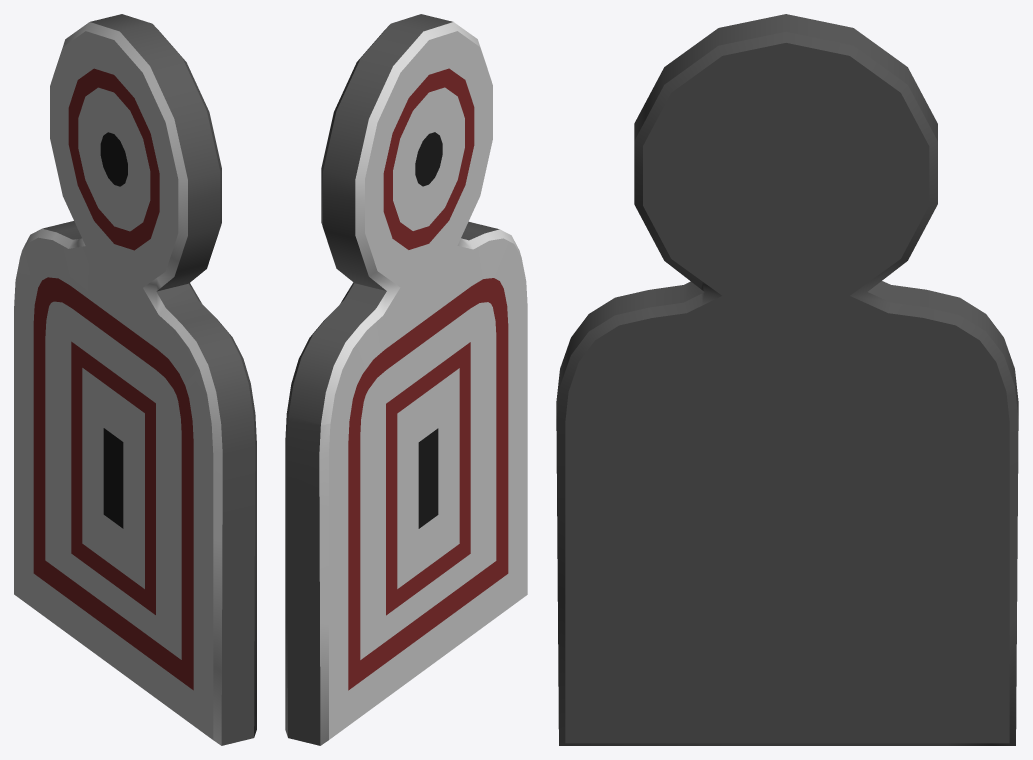
Rendered from Entity_TargetBody-bkn.FBX.
The picture shows the model from 3 angles, left to right: view 1: azimuth 30°, elevation 25°; view 2: azimuth 150°, elevation 25°; view 3: azimuth 270°, elevation 25°; orthographic projection. The views are drawn at different scales.
Parts seen in each view (by area): view 1: TargetBody_Part_5, TargetBody_Part_6, TargetBody_Part_4, TargetBody_Part_3, TargetBody_Part_1, TargetBody_Part_2, TargetBody_Part_10, TargetBody_Part_8, TargetBody_Part_7, TargetBody_Part_9; view 2: TargetBody_Part_6, TargetBody_Part_10, TargetBody_Part_1, TargetBody_Part_3, TargetBody_Part_8, TargetBody_Part_4, TargetBody_Part_5, TargetBody_Part_2, TargetBody_Part_9, TargetBody_Part_7; view 3: TargetBody_Part_6, TargetBody_Part_5, TargetBody_Part_4, TargetBody_Part_3, TargetBody_Part_2, TargetBody_Part_1, TargetBody_Part_10, TargetBody_Part_8, TargetBody_Part_7, TargetBody_Part_9.
Boxes of the visible parts, <box> form: TargetBody_Part_5: <box>156,192,256,539</box>; TargetBody_Part_6: <box>50,14,221,209</box>; TargetBody_Part_4: <box>136,501,256,745</box>; TargetBody_Part_3: <box>91,177,194,500</box>; TargetBody_Part_1: <box>14,279,149,491</box>; TargetBody_Part_2: <box>55,475,157,646</box>; TargetBody_Part_10: <box>16,107,98,319</box>; TargetBody_Part_8: <box>14,360,100,547</box>; TargetBody_Part_7: <box>46,548,137,684</box>; TargetBody_Part_9: <box>14,479,54,617</box>; TargetBody_Part_6: <box>321,14,492,200</box>; TargetBody_Part_10: <box>286,193,413,426</box>; TargetBody_Part_1: <box>285,352,464,505</box>; TargetBody_Part_3: <box>406,148,472,439</box>; TargetBody_Part_8: <box>285,487,415,634</box>; TargetBody_Part_4: <box>450,393,527,649</box>; TargetBody_Part_5: <box>461,111,527,436</box>; TargetBody_Part_2: <box>370,437,472,633</box>; TargetBody_Part_9: <box>285,622,369,745</box>; TargetBody_Part_7: <box>360,614,452,716</box>; TargetBody_Part_6: <box>634,14,937,211</box>; TargetBody_Part_5: <box>556,165,702,521</box>; TargetBody_Part_4: <box>557,515,738,745</box>; TargetBody_Part_3: <box>695,202,838,513</box>; TargetBody_Part_2: <box>686,510,931,716</box>; TargetBody_Part_1: <box>720,374,1018,528</box>; TargetBody_Part_10: <box>821,167,1015,395</box>; TargetBody_Part_8: <box>817,468,1018,661</box>; TargetBody_Part_7: <box>735,669,947,745</box>; TargetBody_Part_9: <box>929,617,1016,745</box>.
Bounding box in the file's own units: 5.43 × 75.88 × 44.5.
